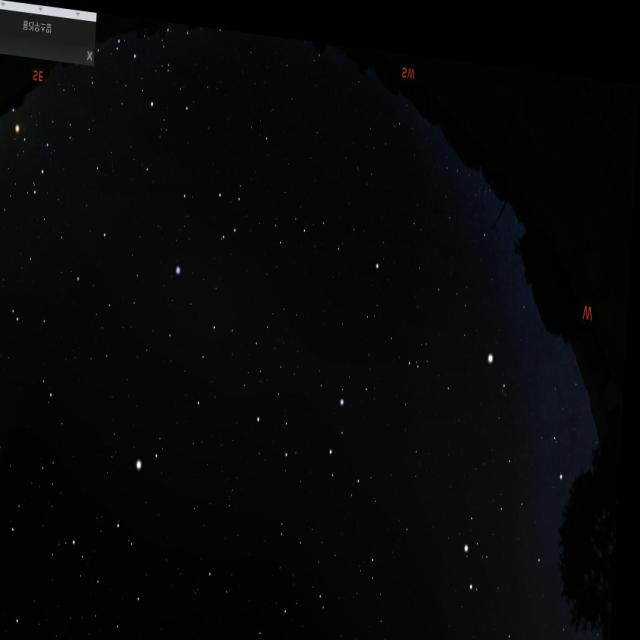bootes: (89, 418, 177, 640)
canis_minor: (476, 317, 522, 391)
gemini: (460, 443, 577, 597)
leo: (246, 352, 390, 500)
scorpius: (6, 92, 60, 208)
